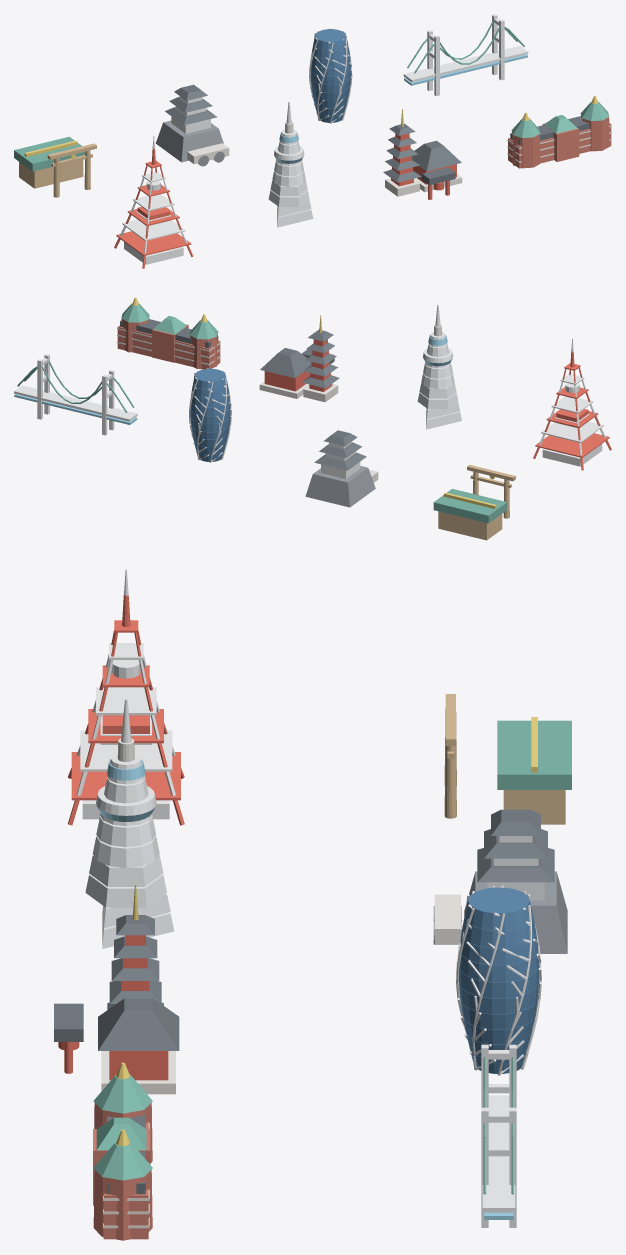
Rendered from tokyo_monuments.glb.
3 renders of one model, top to bottom at view 1: azimuth 30°, elevation 25°; view 2: azimuth 150°, elevation 25°; view 3: azimuth 270°, elevation 25°, orthographic. The views are drawn at different scales.
Parts seen in each view (by area): view 1: Palace_Ishigaki_Wall, Rainbow_Deck_Upper, Meiji_Sanctuary_Hall, Meiji_Copper_Roof, TTower_GirtX_0, Sensoji_Hondo_Roof, TSta_Long_Wings, TSta_Imperial_Center, TSta_Octagon_Drum_-2.55, TTower_GirtX_1, TSta_Octagon_Drum_2.55, Cocoon_Core_9 (+19 smaller); view 2: Palace_Ishigaki_Wall, Meiji_Copper_Roof, TSta_Long_Wings, Meiji_Sanctuary_Hall, Rainbow_Deck_Upper, Sensoji_Hondo_Roof, TTower_GirtX_0, TTower_GirtX_1, TSta_Imperial_Center, Cocoon_Core_9, Sensoji_Hondo_Walls, TTower_FootTown (+19 smaller); view 3: Meiji_Copper_Roof, Sensoji_Hondo_Roof, Rainbow_Deck_Upper, Palace_Ishigaki_Wall, Cocoon_Core_9, TSta_Octagon_Drum_2.55, TTower_GirtX_0, TTower_GirtX_1, Palace_Keep_Roof_0, Skytree_Cage_2, Meiji_Sanctuary_Hall, Sensoji_Hondo_Walls (+22 smaller).
Part boxes in pixels (x1,y1,x2,y2): Palace_Ishigaki_Wall: [155, 120, 223, 162]; Rainbow_Deck_Upper: [403, 46, 528, 82]; Meiji_Sanctuary_Hall: [19, 160, 83, 188]; Meiji_Copper_Roof: [14, 136, 84, 171]; TTower_GirtX_0: [116, 231, 191, 255]; Sensoji_Hondo_Roof: [412, 140, 461, 171]; TSta_Long_Wings: [508, 123, 611, 168]; TSta_Imperial_Center: [542, 123, 579, 161]; TSta_Octagon_Drum_-2.55: [512, 132, 540, 168]; TTower_GirtX_1: [122, 219, 185, 240]; TSta_Octagon_Drum_2.55: [581, 116, 609, 151]; Cocoon_Core_9: [313, 29, 347, 50]; Palace_Ishigaki_Wall: [305, 466, 375, 507]; Meiji_Copper_Roof: [433, 488, 507, 523]; TSta_Long_Wings: [117, 325, 220, 369]; Meiji_Sanctuary_Hall: [438, 511, 502, 540]; Rainbow_Deck_Upper: [14, 385, 137, 421]; Sensoji_Hondo_Roof: [260, 348, 311, 378]; TTower_GirtX_0: [535, 433, 609, 457]; TTower_GirtX_1: [541, 421, 603, 442]; TSta_Imperial_Center: [152, 324, 188, 362]; Cocoon_Core_9: [193, 368, 227, 390]; Sensoji_Hondo_Walls: [264, 371, 310, 391]; TTower_FootTown: [542, 444, 602, 466]; Meiji_Copper_Roof: [497, 720, 571, 789]; Sensoji_Hondo_Roof: [98, 998, 179, 1050]; Rainbow_Deck_Upper: [482, 1095, 515, 1212]; Palace_Ishigaki_Wall: [464, 871, 567, 953]; Cocoon_Core_9: [464, 887, 533, 930]; TSta_Octagon_Drum_2.55: [93, 1170, 152, 1240]; TTower_GirtX_0: [71, 752, 180, 800]; TTower_GirtX_1: [80, 730, 172, 771]; Palace_Keep_Roof_0: [477, 848, 554, 882]; Skytree_Cage_2: [85, 874, 166, 907]; Meiji_Sanctuary_Hall: [503, 790, 565, 824]; Sensoji_Hondo_Walls: [109, 1051, 168, 1080].
Bounding box in the file's own units: 36.35 × 8.41 × 16.68.
